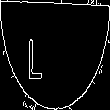L_N: (47, 29, 63, 81)
